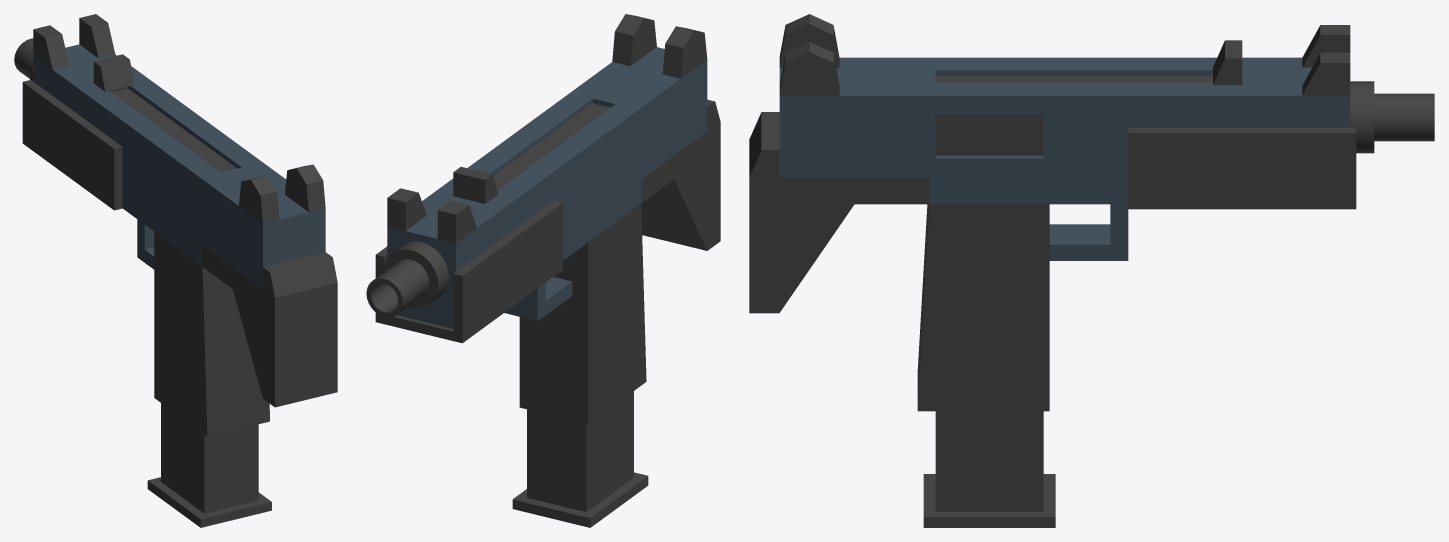
The model's file is uziLong.obj.
3 views of the same model, side by side, from view 1: azimuth 30°, elevation 25°; view 2: azimuth 150°, elevation 25°; view 3: azimuth 270°, elevation 25° (orthographic). The views are drawn at different scales.
Parts seen in each view (by area): view 1: Group; view 2: Group; view 3: Group.
Boxes of the visible parts, x1=… form: Group: x1=14, y1=14, x2=337, y2=527; Group: x1=366, y1=14, x2=720, y2=527; Group: x1=749, y1=14, x2=1434, y2=527.
Size of the model in its own units: 0.0727 by 0.333 by 0.4368.
